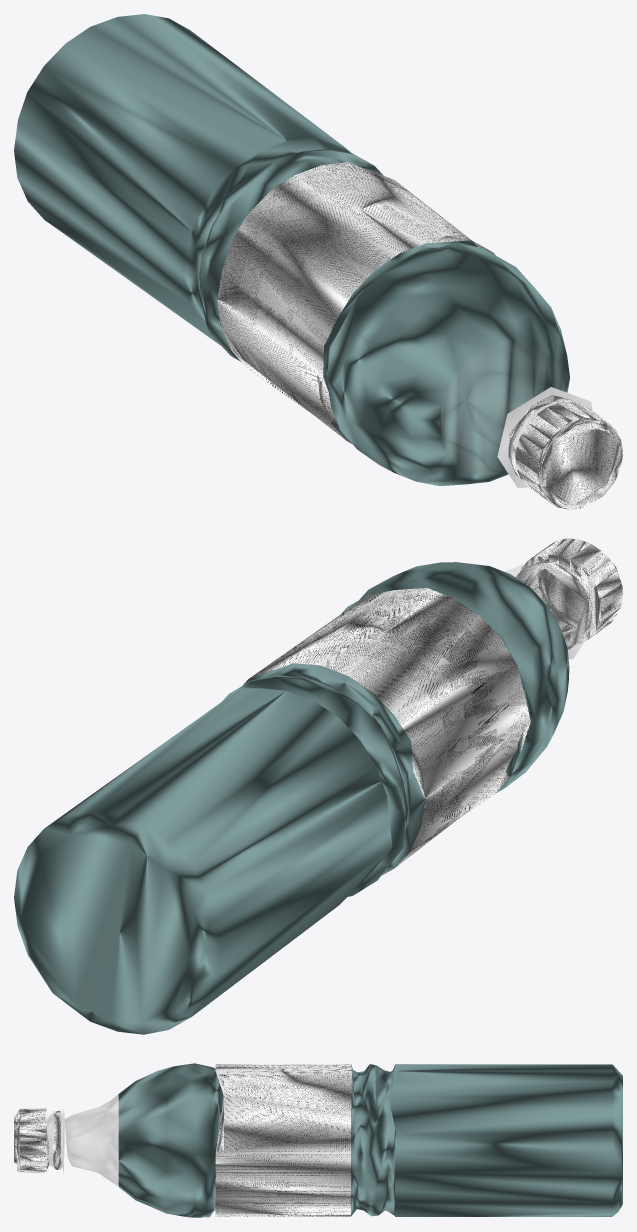
Rendered from model_align.obj.
3 views of the same model, one above another, from view 1: azimuth 30°, elevation 25°; view 2: azimuth 150°, elevation 25°; view 3: azimuth 270°, elevation 25° (orthographic). The views are drawn at different scales.
Bounding box in the file's own units: 0.0626 × 0.0625 × 0.2463.
